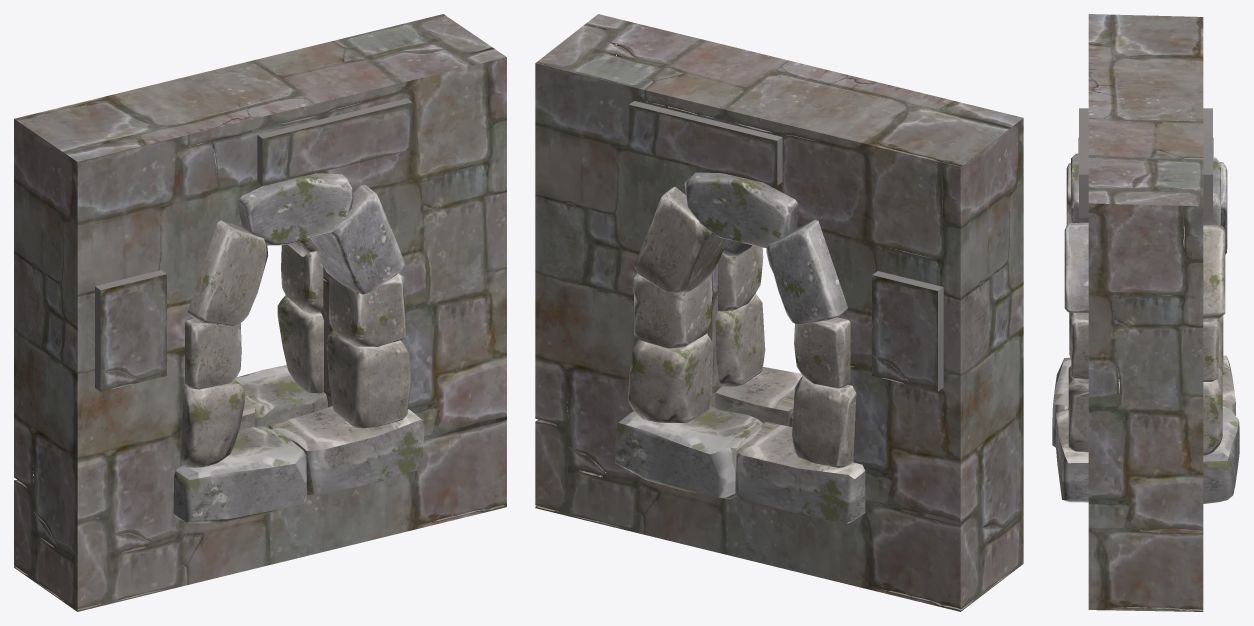
3 views of the same model, side by side, from view 1: azimuth 30°, elevation 25°; view 2: azimuth 150°, elevation 25°; view 3: azimuth 270°, elevation 25° (orthographic). The views are drawn at different scales.
Visible parts, largest first — view 1: SM_BB_T3_Wall_Med_v3_LOD0; view 2: SM_BB_T3_Wall_Med_v3_LOD0; view 3: SM_BB_T3_Wall_Med_v3_LOD0.
Boxes of the visible parts, x1,y1,x2,y2 form: SM_BB_T3_Wall_Med_v3_LOD0: (14,14,506,611); SM_BB_T3_Wall_Med_v3_LOD0: (535,14,1023,611); SM_BB_T3_Wall_Med_v3_LOD0: (1052,14,1239,611).
Size of the model in its own units: 1.5 by 1.51 by 0.6264.
2 materials, 2 textured.
